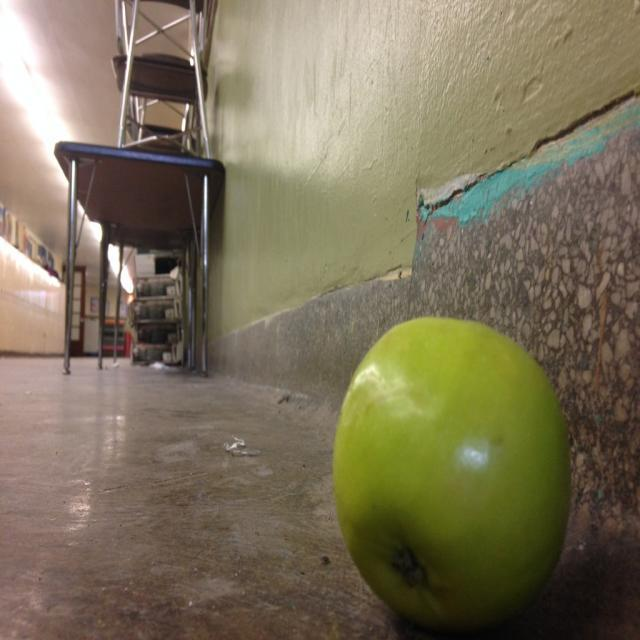Apple: (338, 317, 572, 635)
